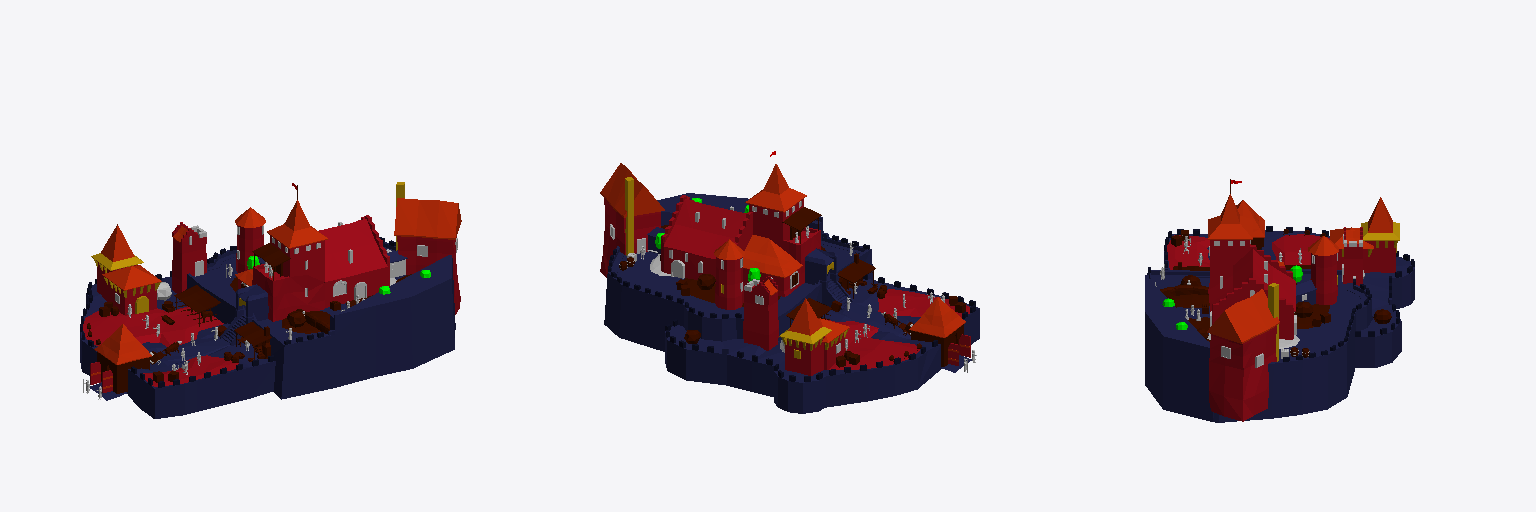
Rendered from castle.obj.
The picture shows the model from 3 angles: view 1: azimuth 30°, elevation 25°; view 2: azimuth 150°, elevation 25°; view 3: azimuth 270°, elevation 25°; orthographic projection.
Parts seen in each view (by area): view 1: Mesh_polySurface1406, Mesh_polySurface1437, Mesh_polySurface1408, Mesh_polySurface51, Mesh_polySurface1059, Mesh_polySurface68, Mesh_polySurface1061, Mesh_polySurface267, Mesh_polySurface56, Mesh_polySurface64, Mesh_polySurface65, Mesh_polySurface1499 (+9 smaller); view 2: Mesh_polySurface1437, Mesh_polySurface1406, Mesh_polySurface51, Mesh_polySurface267, Mesh_polySurface1408, Mesh_polySurface1061, Mesh_polySurface56, Mesh_polySurface62, Mesh_polySurface1059, Mesh_polySurface60, Mesh_polySurface65, Mesh_polySurface1499 (+9 smaller); view 3: Mesh_polySurface1406, Mesh_polySurface1061, Mesh_polySurface1437, Mesh_polySurface1059, Mesh_polySurface51, Mesh_polySurface56, Mesh_polySurface65, Mesh_polySurface60, Mesh_polySurface48, Mesh_polySurface1408, Mesh_polySurface68, Mesh_polySurface1405 (+2 smaller).
Part boxes in pixels (bbox=[...]): Mesh_polySurface1406: bbox=[186, 242, 455, 399]; Mesh_polySurface1437: bbox=[80, 277, 275, 418]; Mesh_polySurface1408: bbox=[83, 306, 223, 346]; Mesh_polySurface51: bbox=[319, 219, 387, 282]; Mesh_polySurface1059: bbox=[394, 198, 461, 239]; Mesh_polySurface68: bbox=[270, 235, 324, 312]; Mesh_polySurface1061: bbox=[397, 236, 460, 314]; Mesh_polySurface267: bbox=[172, 222, 206, 293]; Mesh_polySurface56: bbox=[325, 215, 389, 307]; Mesh_polySurface64: bbox=[252, 264, 289, 321]; Mesh_polySurface65: bbox=[267, 200, 327, 248]; Mesh_polySurface1499: bbox=[94, 324, 151, 364]; Mesh_polySurface1437: bbox=[665, 279, 979, 413]; Mesh_polySurface1406: bbox=[604, 193, 872, 351]; Mesh_polySurface51: bbox=[663, 199, 746, 259]; Mesh_polySurface267: bbox=[743, 276, 778, 350]; Mesh_polySurface1408: bbox=[826, 319, 919, 369]; Mesh_polySurface1061: bbox=[600, 198, 660, 277]; Mesh_polySurface56: bbox=[661, 195, 752, 283]; Mesh_polySurface62: bbox=[743, 235, 802, 277]; Mesh_polySurface1059: bbox=[600, 163, 664, 217]; Mesh_polySurface60: bbox=[715, 257, 743, 309]; Mesh_polySurface65: bbox=[745, 164, 806, 212]; Mesh_polySurface1499: bbox=[909, 297, 965, 337]; Mesh_polySurface1406: bbox=[1145, 269, 1372, 422]; Mesh_polySurface1061: bbox=[1209, 326, 1276, 421]; Mesh_polySurface1437: bbox=[1164, 230, 1414, 367]; Mesh_polySurface1059: bbox=[1207, 289, 1279, 343]; Mesh_polySurface51: bbox=[1208, 248, 1295, 311]; Mesh_polySurface56: bbox=[1212, 245, 1293, 339]; Mesh_polySurface65: bbox=[1208, 194, 1252, 239]; Mesh_polySurface60: bbox=[1310, 253, 1337, 304]; Mesh_polySurface48: bbox=[1361, 197, 1399, 240]; Mesh_polySurface1408: bbox=[1272, 234, 1329, 264]; Mesh_polySurface68: bbox=[1210, 240, 1249, 280]; Mesh_polySurface1405: bbox=[1167, 235, 1209, 269].
Size of the model in its own units: 53.71 by 23.46 by 33.78.